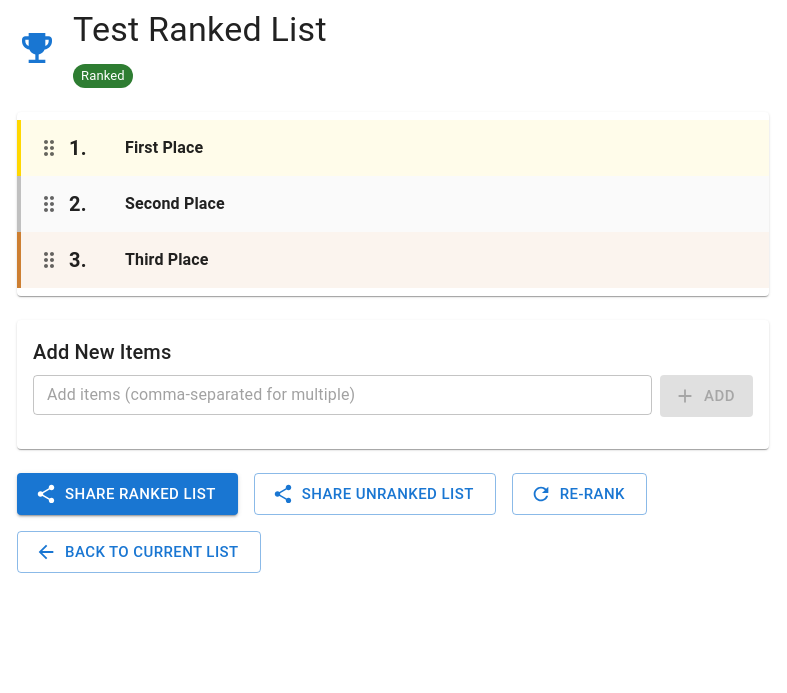
Test: RankedResultView › Add New Items Section › trims whitespace from new items
Type "  Whitespace  " into the field with placeholder "Add items (comma-separated for multiple)" at {"x": 343, "y": 395}, box [33, 375, 652, 415]
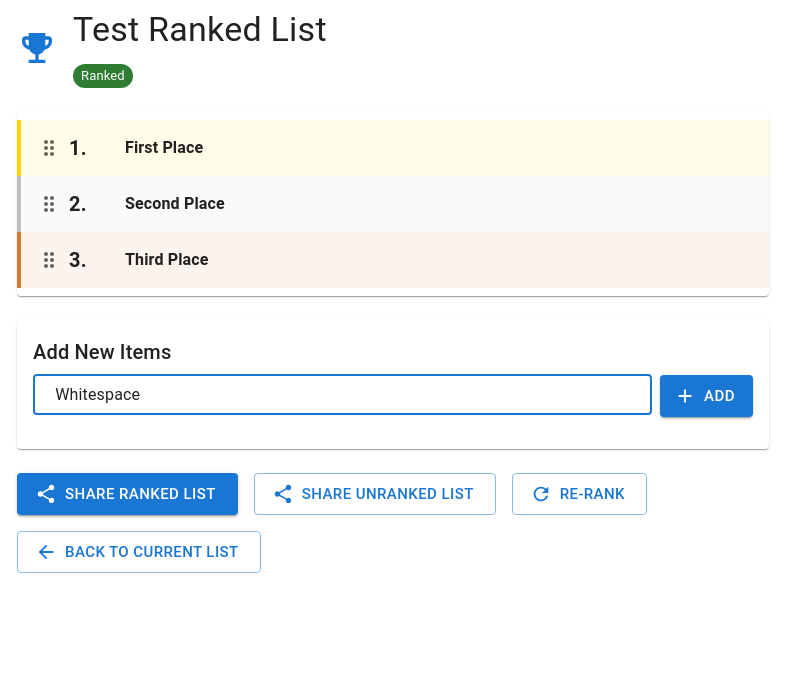
Click the button "Add" at {"x": 707, "y": 396}, box [660, 375, 753, 417]
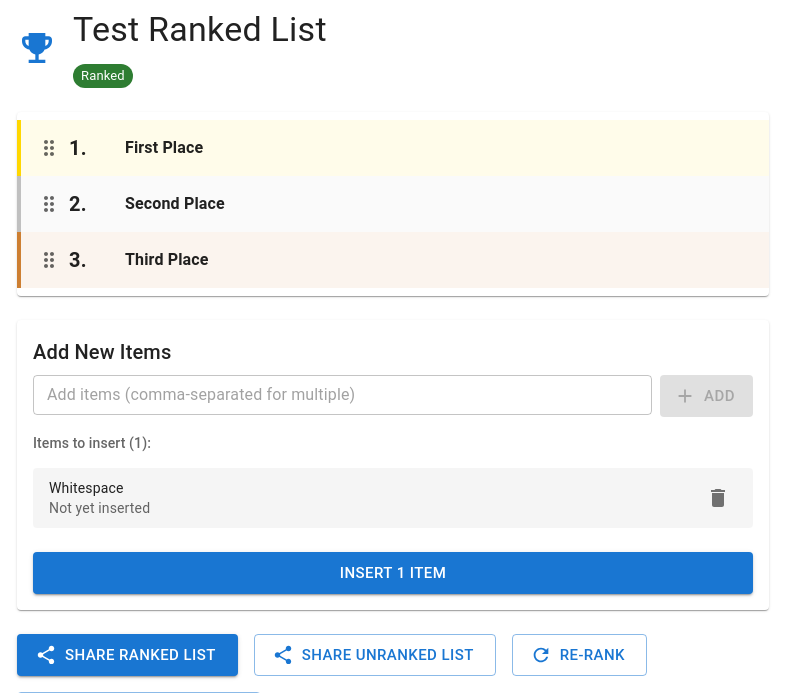
Expected: the text "Whitespace" is shown, [49, 480, 124, 496]
